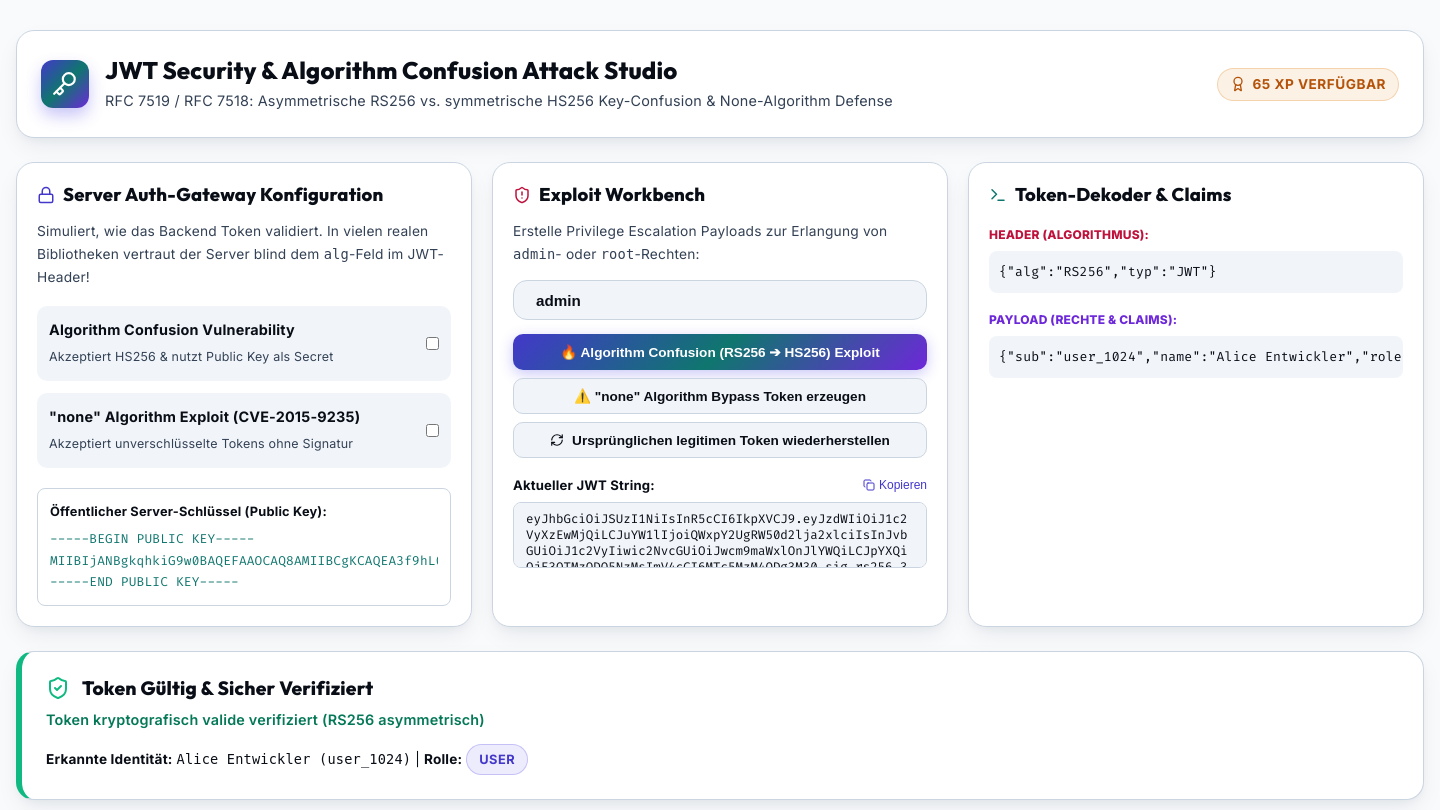
JwtConfusionLab Eingabe › stürzt bei ungültigem Base64URL im Token nicht ab (Regression: atob warf)
Replace the text in the text box with "%%%.@@@.sig": {"x": 720, "y": 536} top-left (513, 502), bottom-right (927, 568)
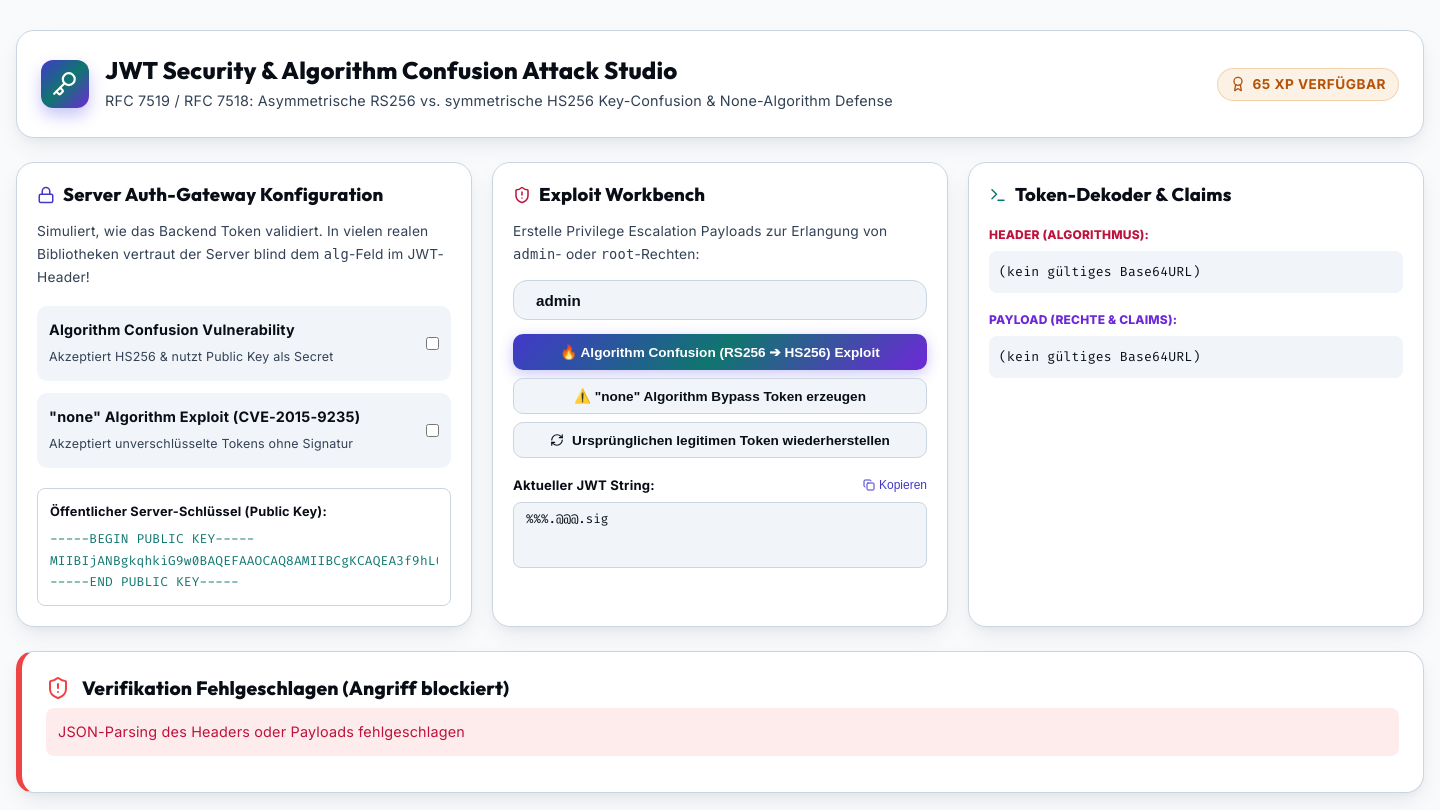
Now the text "(kein gültiges Base64URL)" below "Header (Algorithmus):" is shown, box top-left (999, 263), bottom-right (1200, 280)
